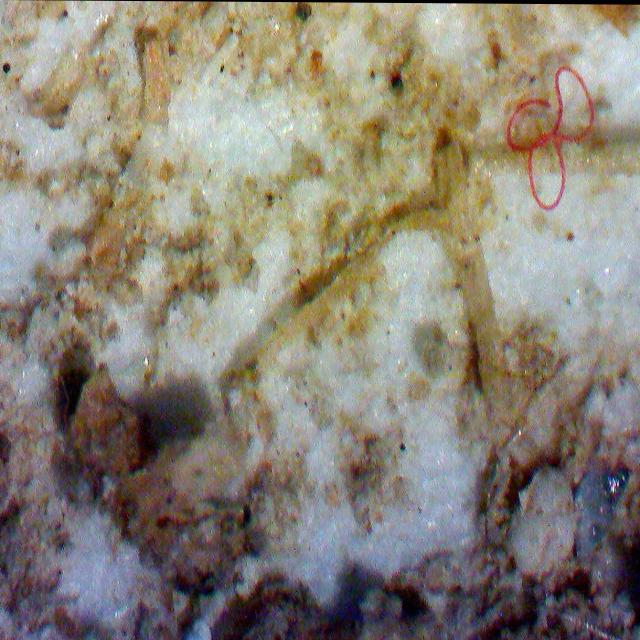microplastic: (506, 67, 595, 210)
